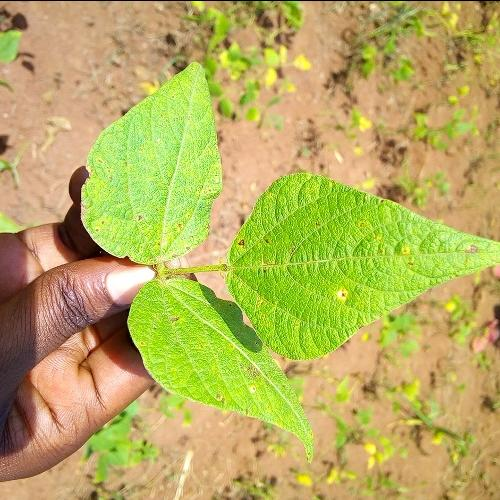hawar: (313, 207, 468, 297)
sehat: (74, 85, 203, 265), (145, 299, 289, 441)
